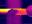Hotspot: (0, 9, 10, 13)
